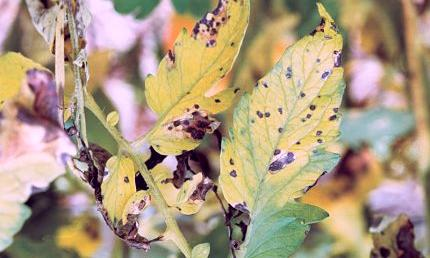Tomato leaf bacterial spot: (223, 14, 345, 215), (138, 0, 245, 154)
